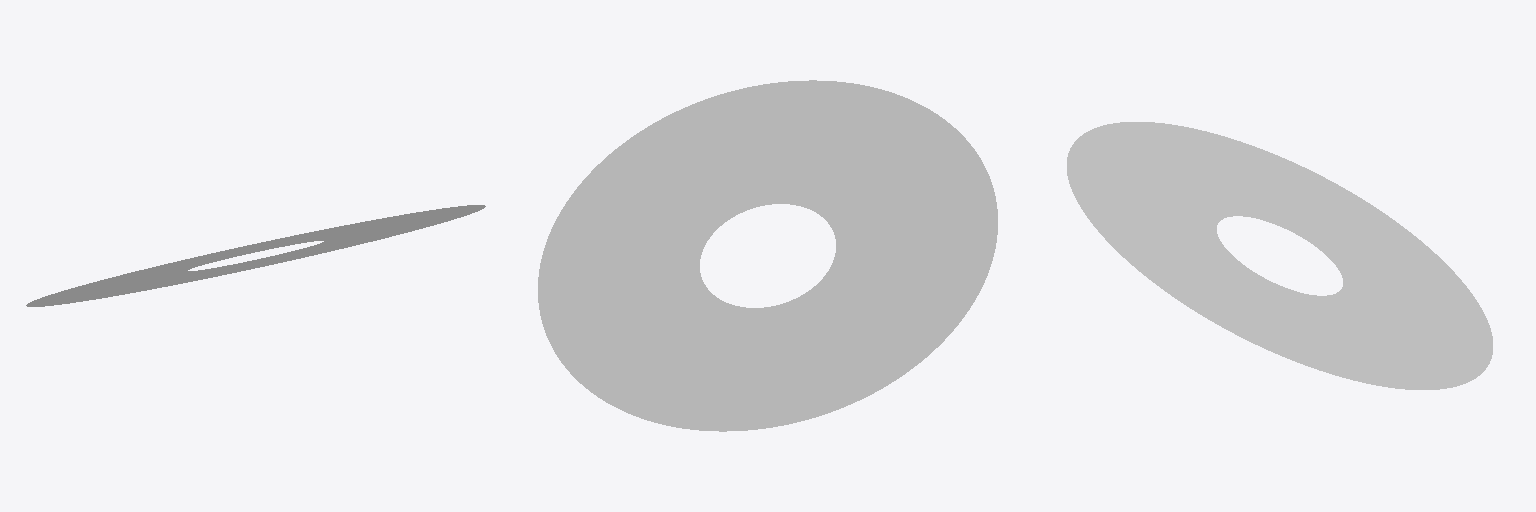
File: MultFill.obj
The picture shows the model from 3 angles: view 1: azimuth 30°, elevation 25°; view 2: azimuth 150°, elevation 25°; view 3: azimuth 270°, elevation 25°; orthographic projection.
Visible parts, largest first — view 1: MultFill.001; view 2: MultFill.001; view 3: MultFill.001.
Part boxes in pixels (bbox=[...]): MultFill.001: bbox=[26, 205, 485, 306]; MultFill.001: bbox=[538, 80, 997, 431]; MultFill.001: bbox=[1067, 122, 1492, 389].
Size of the model in its own units: 0.504 by 0.213 by 0.4568.